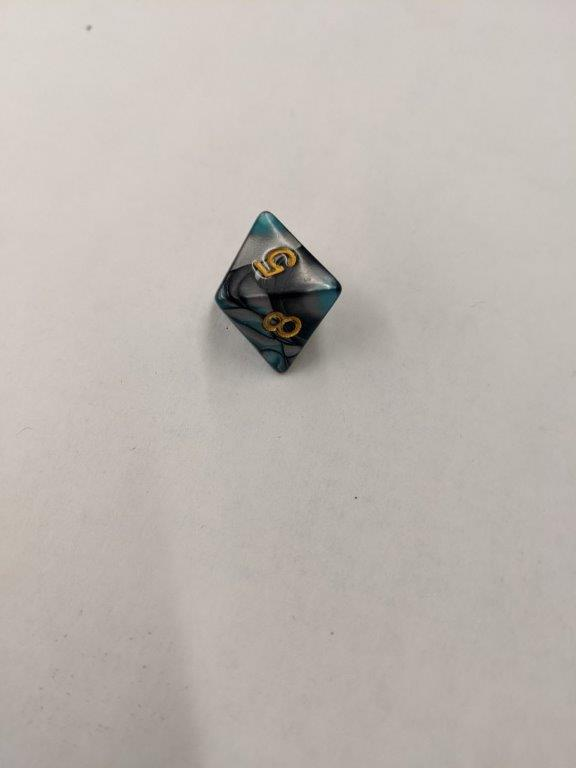d8-5: (210, 209, 342, 375)
